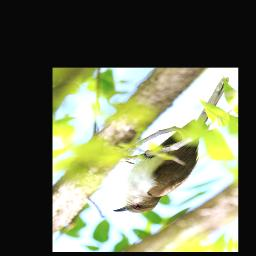Cuckoo: (112, 76, 232, 215)
